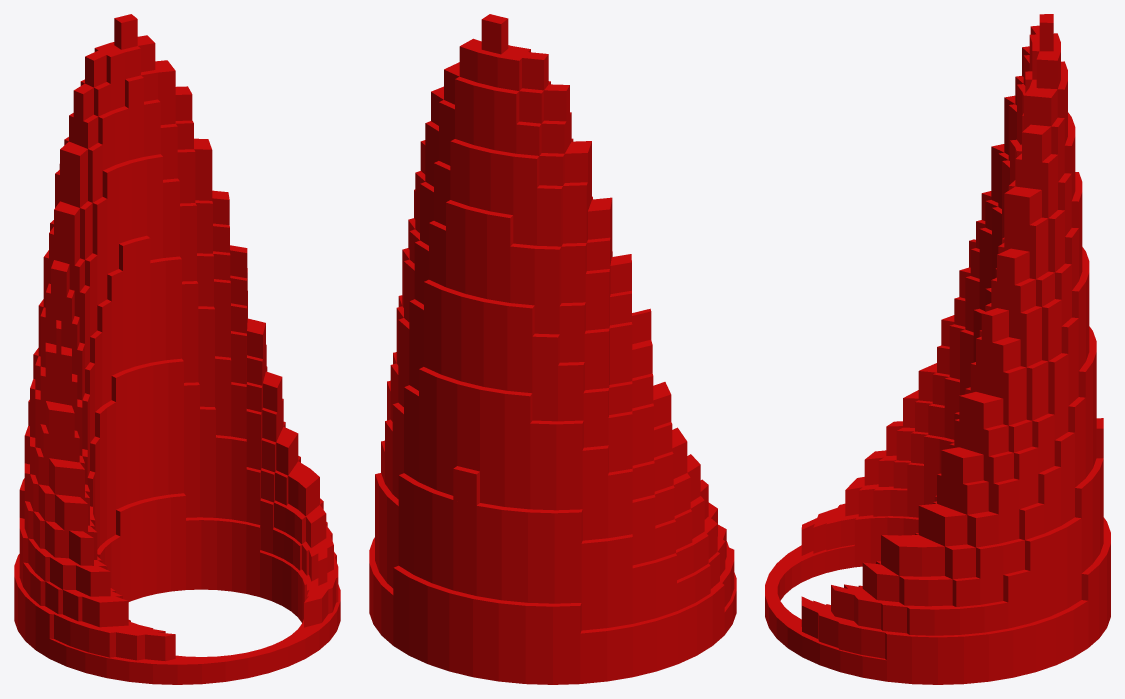
Rendered from fluid4.glb.
The picture shows the model from 3 angles, left to right: view 1: azimuth 30°, elevation 25°; view 2: azimuth 150°, elevation 25°; view 3: azimuth 270°, elevation 25°; orthographic projection. The views are drawn at different scales.
Visible parts, largest first — view 1: world; view 2: world; view 3: world.
Part boxes in pixels (box(x1,y1,x2,y2)): world: box(14, 14, 340, 684); world: box(369, 14, 736, 684); world: box(765, 14, 1110, 684).
Size of the model in its own units: 0.2204 by 0.416 by 0.2198.
